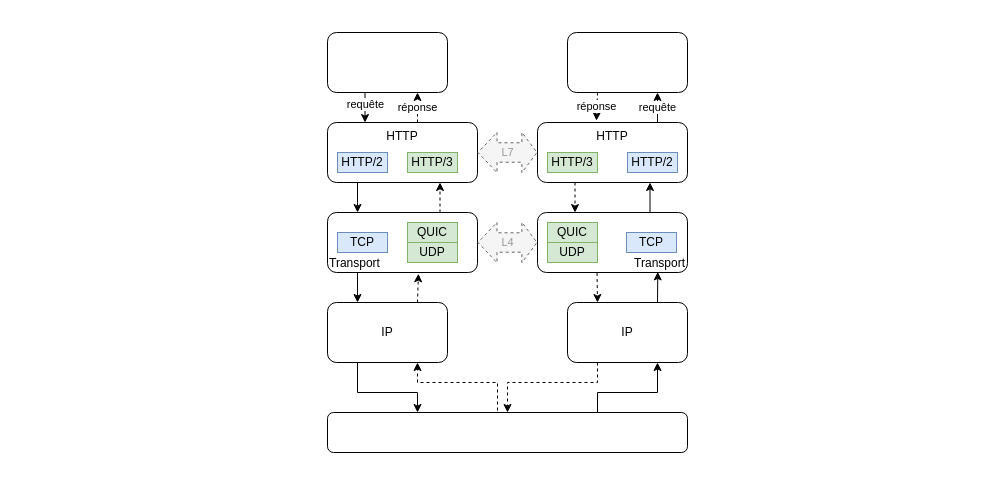
Image size: 984x484. Some labels were removed from this diagram. The shapes that lost their labels are listed below. From the top down, each one's centre as x and y in pixels, then its label:
pixel 387 62: Client HTTP
pixel 627 62: Serveur HTTP
pixel 507 432: internet
